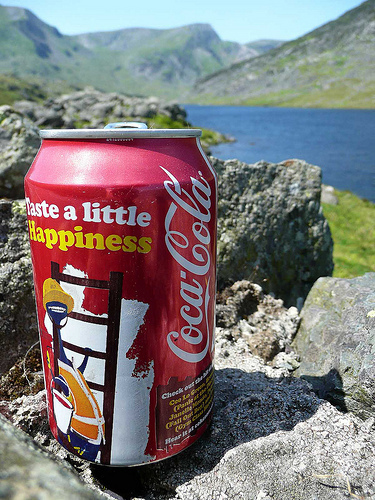litter: (22, 122, 214, 467)
